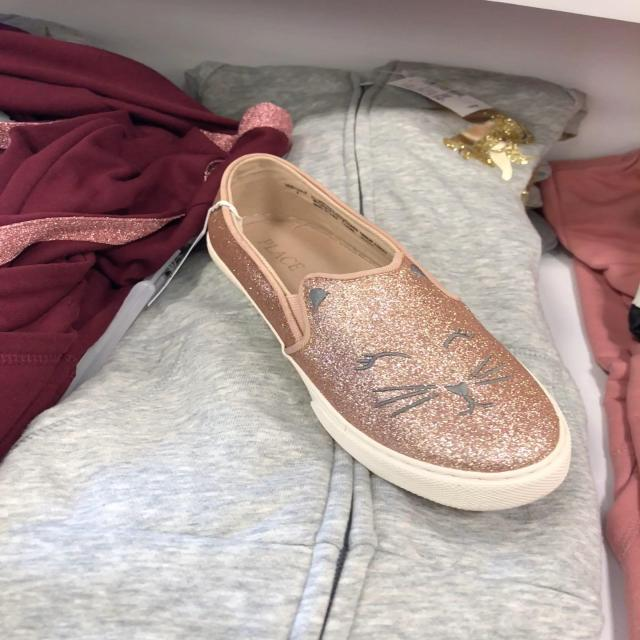shoe: (203, 154, 572, 514)
